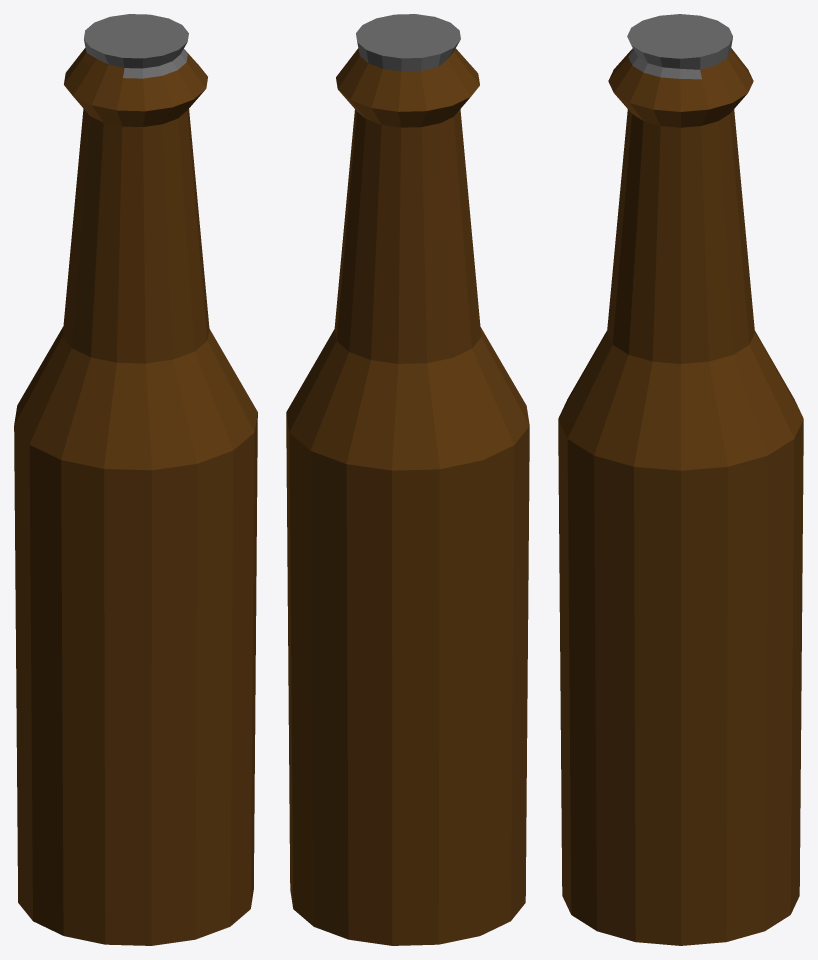
The model's file is BeerBottle.glb.
The picture shows the model from 3 angles, left to right: view 1: azimuth 30°, elevation 25°; view 2: azimuth 150°, elevation 25°; view 3: azimuth 270°, elevation 25°; orthographic projection.
Parts seen in each view (by area): view 1: BeerBottle-col; view 2: BeerBottle-col; view 3: BeerBottle-col.
Boxes of the visible parts, left/top/right/bottom form: BeerBottle-col: left=14, top=14, right=257, bottom=945; BeerBottle-col: left=286, top=14, right=529, bottom=945; BeerBottle-col: left=558, top=14, right=803, bottom=945.
Size of the model in its own units: 0.7915 by 3.12 by 0.7915.
